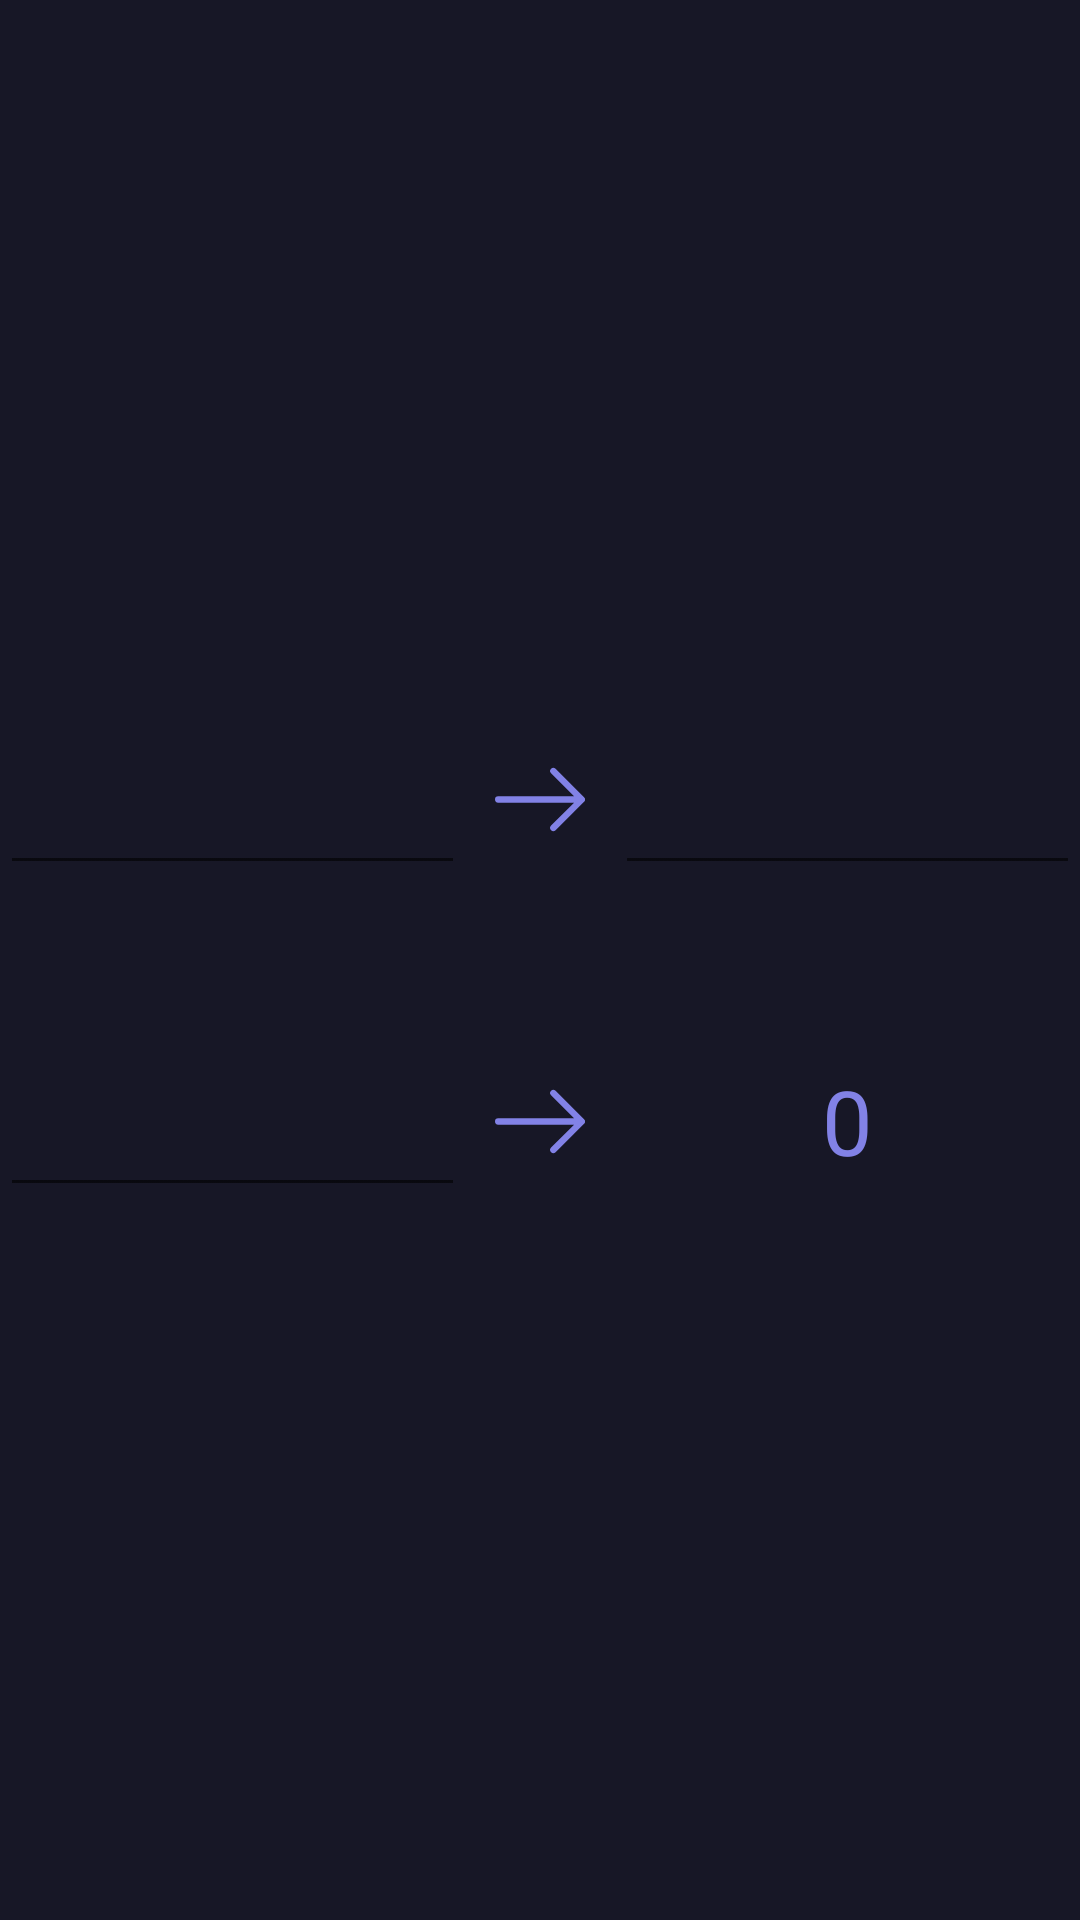

Named icons in this screenshot (1080x1920) and their centers, (x=x, y=y):
arrow right: (x=540, y=799), (x=540, y=1121)
